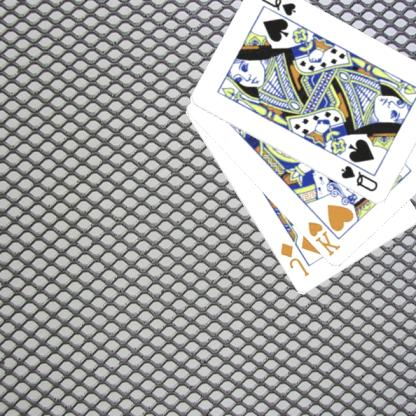JD: (279, 240, 313, 278)
KH: (307, 219, 344, 258)
QS: (340, 163, 382, 193), (259, 0, 299, 18)
